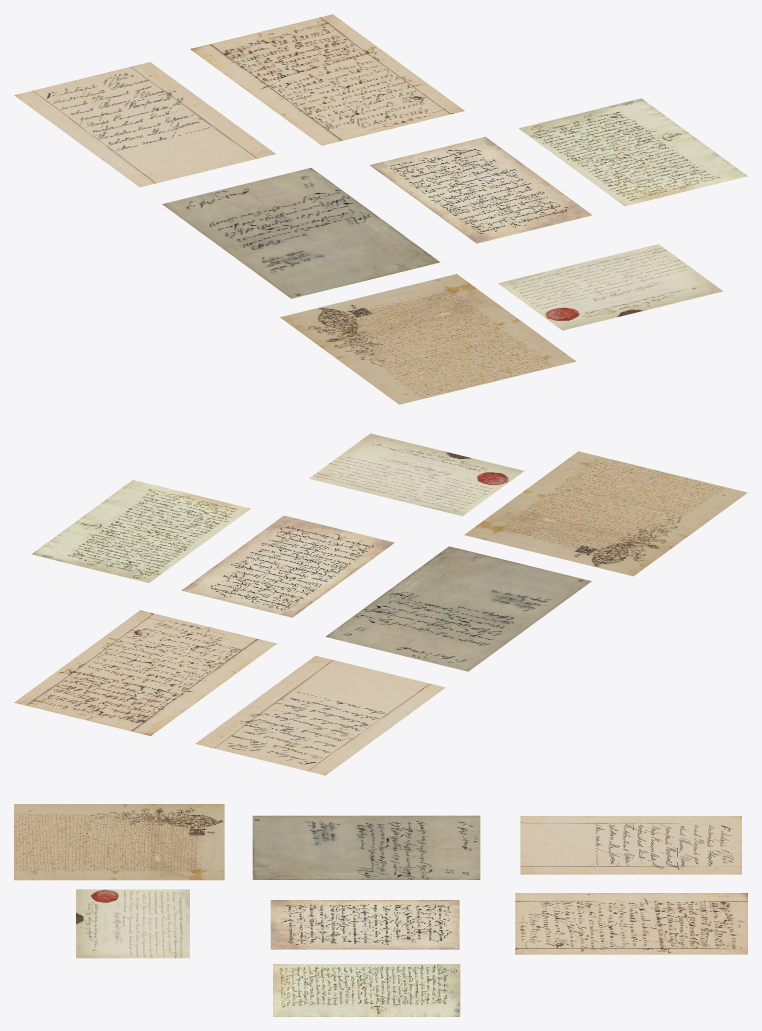
File: old_papers_1.fbx
3 views of the same model, one above another, from view 1: azimuth 30°, elevation 25°; view 2: azimuth 150°, elevation 25°; view 3: azimuth 270°, elevation 25° (orthographic). The views are drawn at different scales.
Visible parts, largest first — view 1: paper_7, paper_1, paper_5, paper_6, paper_2, paper_4, paper_3; view 2: paper_7, paper_1, paper_5, paper_6, paper_2, paper_4, paper_3; view 3: paper_7, paper_1, paper_5, paper_6, paper_2, paper_4, paper_3.
Boxes of the visible parts, x1,y1,x2,y2 form: paper_7: [280, 274, 576, 404]; paper_1: [162, 167, 440, 298]; paper_5: [190, 14, 464, 145]; paper_6: [14, 62, 275, 187]; paper_2: [519, 98, 747, 205]; paper_4: [369, 137, 592, 243]; paper_3: [498, 244, 722, 330]; paper_7: [464, 451, 747, 576]; paper_1: [325, 546, 591, 671]; paper_5: [14, 610, 276, 735]; paper_6: [195, 655, 445, 775]; paper_2: [31, 480, 250, 582]; paper_4: [181, 515, 394, 617]; paper_3: [309, 433, 523, 516]; paper_7: [14, 804, 224, 880]; paper_1: [252, 815, 480, 879]; paper_5: [515, 893, 747, 954]; paper_6: [520, 816, 741, 874]; paper_2: [273, 964, 460, 1016]; paper_4: [270, 900, 459, 949]; paper_3: [76, 889, 189, 958].
Size of the model in its own units: 57.89 by 8.24e-06 by 84.32.
